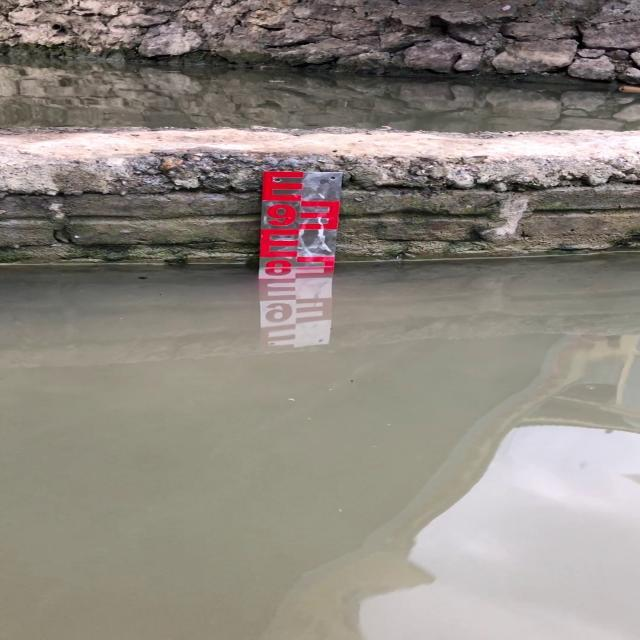ruler: (254, 160, 346, 280)
value: (262, 198, 300, 232)
